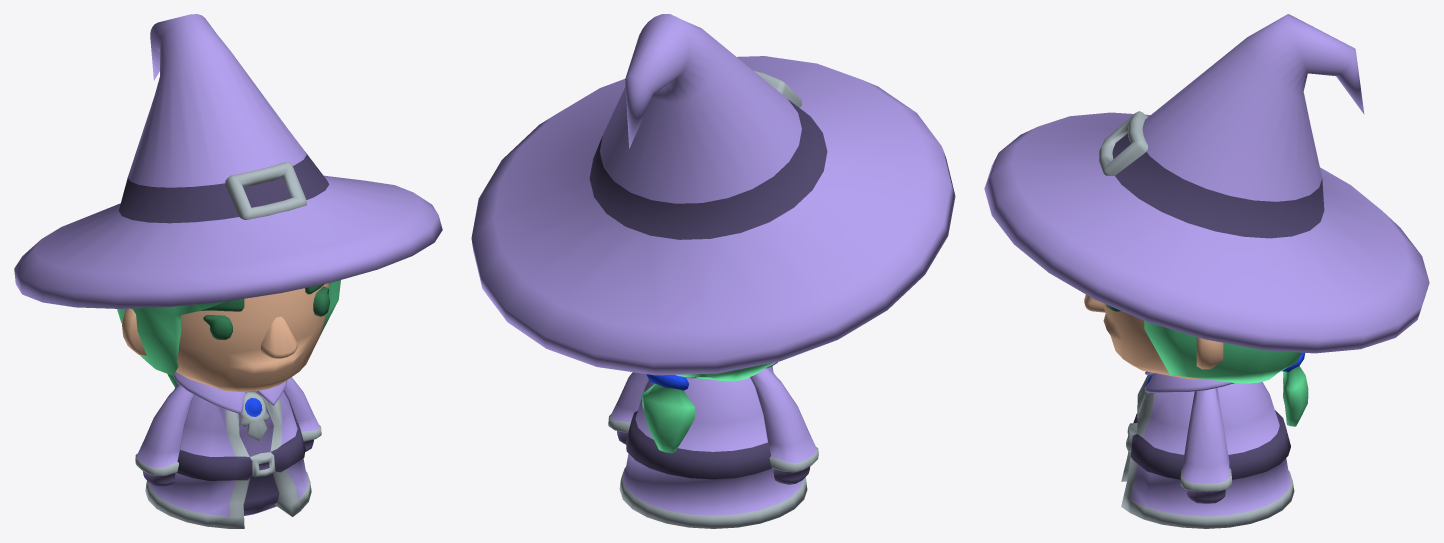
The model's file is mage94.gltf.
The picture shows the model from 3 angles, left to right: view 1: azimuth 30°, elevation 25°; view 2: azimuth 150°, elevation 25°; view 3: azimuth 270°, elevation 25°; orthographic projection. The views are drawn at different scales.
Parts seen in each view (by area): view 1: character_mageHat, character_mageBody, character_mageHead, character_mageArmRight, character_mageHair, character_mageArnLeft; view 2: character_mageHat, character_mageBody, character_mageArmRight, character_mageHair, character_mageArnLeft; view 3: character_mageHat, character_mageBody, character_mageHair, character_mageArnLeft, character_mageHead.
Boxes of the visible parts, box(x1,y1,x2,y2) form: character_mageHat: box(14, 14, 442, 308); character_mageBody: box(145, 372, 311, 528); character_mageHead: box(122, 283, 329, 391); character_mageArmRight: box(135, 384, 194, 487); character_mageHair: box(117, 280, 340, 387); character_mageArnLeft: box(284, 377, 321, 451); character_mageHat: box(471, 14, 955, 375); character_mageBody: box(619, 362, 807, 528); character_mageArmRight: box(750, 368, 818, 484); character_mageHair: box(641, 362, 774, 453); character_mageArnLeft: box(608, 372, 648, 444); character_mageHat: box(984, 14, 1429, 353); character_mageBody: box(1121, 371, 1294, 528); character_mageHair: box(1144, 320, 1308, 426); character_mageArnLeft: box(1180, 388, 1231, 503); character_mageHead: box(1084, 294, 1223, 380).
Size of the model in its own units: 2.1 by 2.44 by 2.05.
